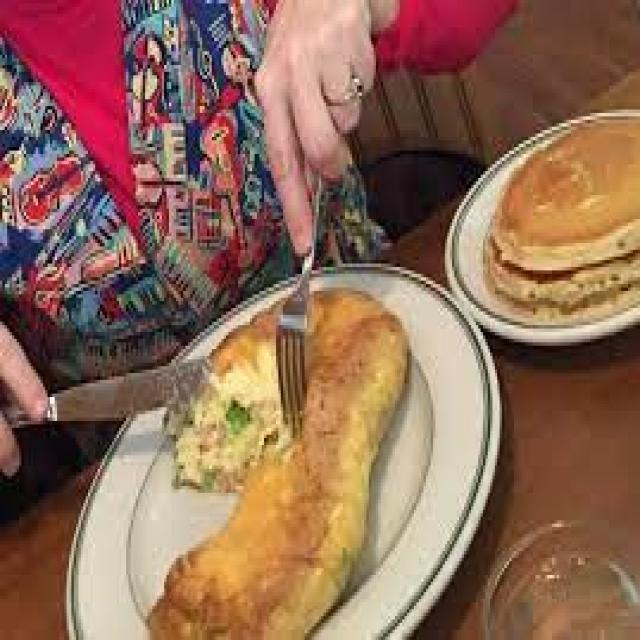Omelette: (136, 301, 428, 637)
Pancakes: (471, 103, 638, 335)
